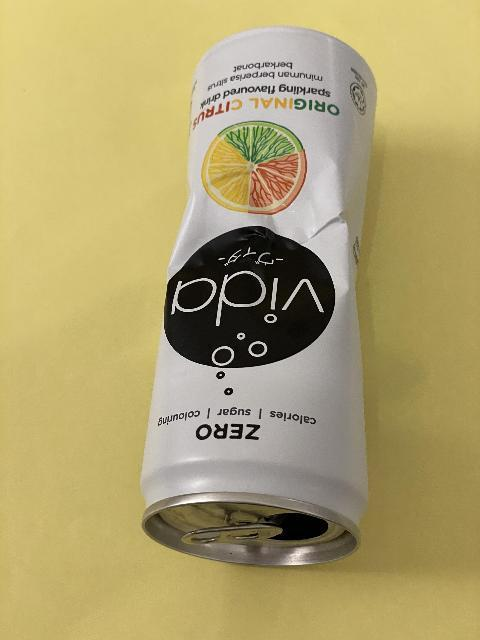drinkcan: (139, 24, 380, 570)
